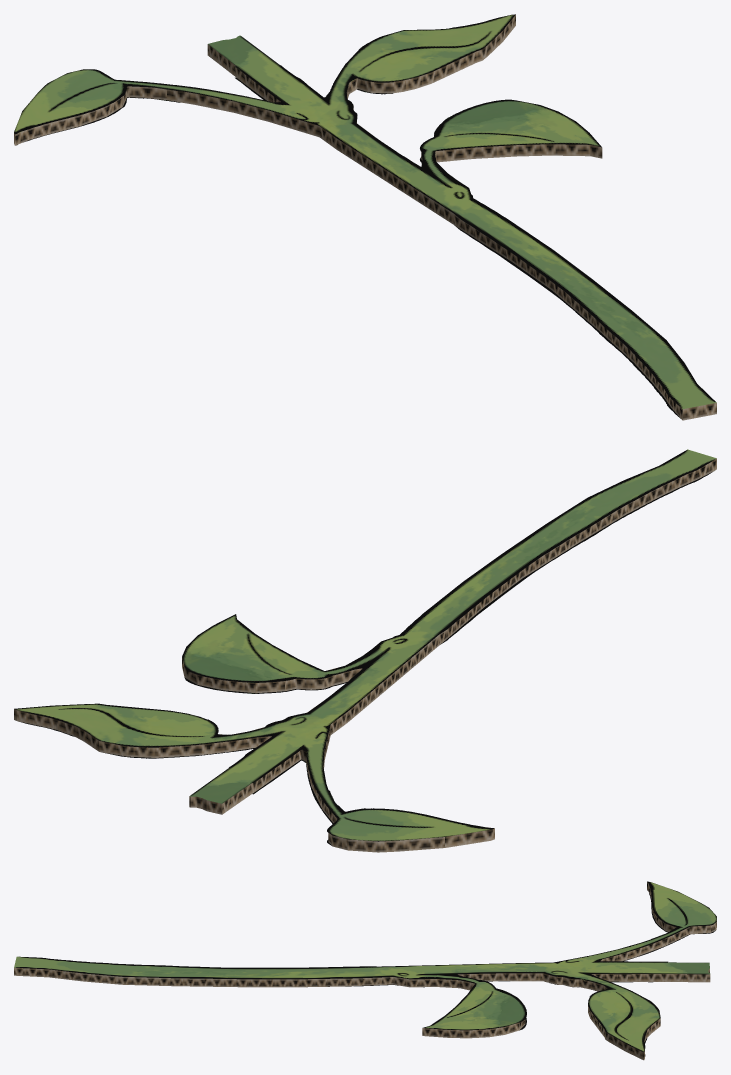
File: tiny_cem_sprite.fbx
The picture shows the model from 3 angles, top to bottom: view 1: azimuth 30°, elevation 25°; view 2: azimuth 150°, elevation 25°; view 3: azimuth 270°, elevation 25°; orthographic projection. The views are drawn at different scales.
Parts seen in each view (by area): view 1: Cube; view 2: Cube; view 3: Cube.
Part boxes in pixels (x1,y1,x2,y2): Cube: (14,14,716,420); Cube: (14,449,716,852); Cube: (14,881,716,1060).
Bounding box in the file's own units: 184 × 4 × 319.
